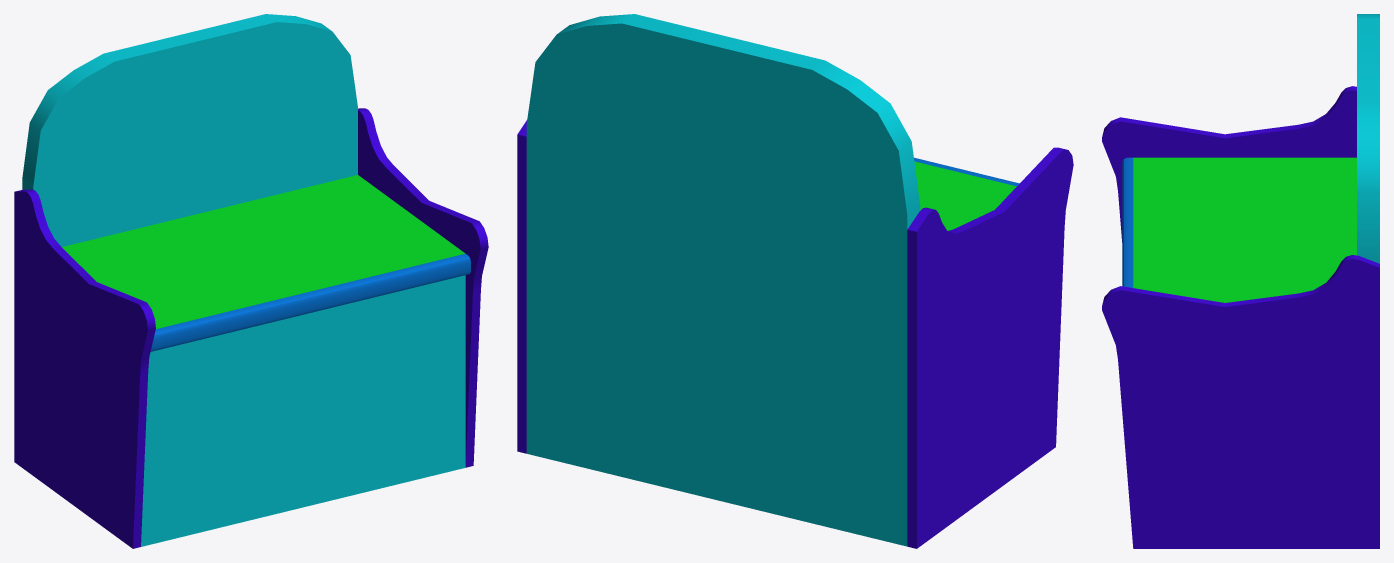
The model's file is machine - Copy.fbx.
3 views of the same model, side by side, from view 1: azimuth 30°, elevation 25°; view 2: azimuth 150°, elevation 25°; view 3: azimuth 270°, elevation 25° (orthographic). The views are drawn at different scales.
Parts seen in each view (by area): view 1: MACHINE; view 2: MACHINE; view 3: MACHINE.
Part boxes in pixels (left/top/right/bottom): MACHINE: left=14, top=14, right=488, bottom=548; MACHINE: left=517, top=14, right=1073, bottom=548; MACHINE: left=1102, top=14, right=1379, bottom=548.
Bounding box in the file's own units: 8.36 × 9.07 × 5.68.
